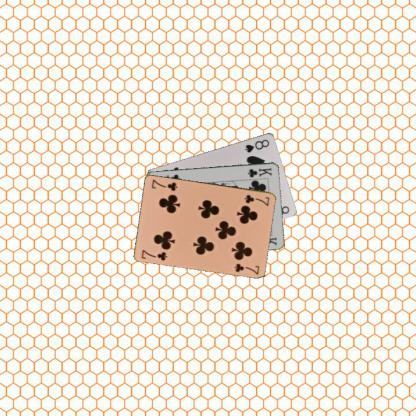7c: (139, 247, 169, 262), (242, 192, 271, 207)
8s: (243, 136, 270, 154)
Kc: (245, 164, 273, 178)
